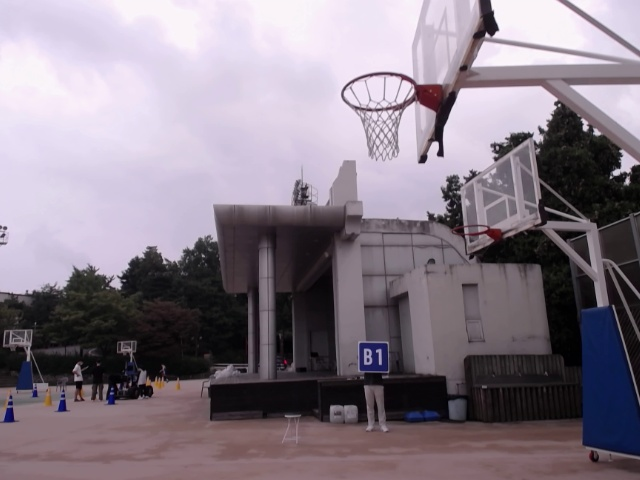delivery_b1: (358, 341, 389, 372)
